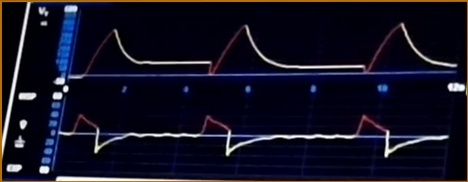Flow: (66, 107, 448, 171)
Leakage Volume: (78, 16, 457, 80)
